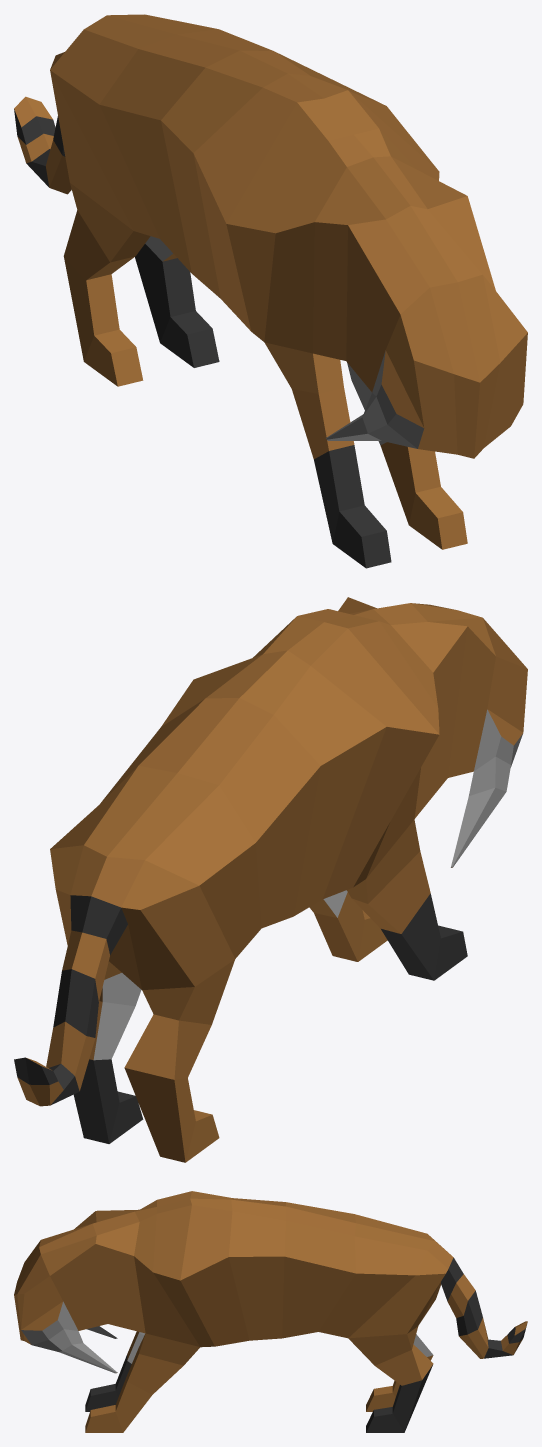
Rendered from Sabertoothcoloranim.dae.
3 views of the same model, one above another, from view 1: azimuth 30°, elevation 25°; view 2: azimuth 150°, elevation 25°; view 3: azimuth 270°, elevation 25° (orthographic). The views are drawn at different scales.
Visible parts, largest first — view 1: Plane; view 2: Plane; view 3: Plane.
Part boxes in pixels (left/top/right/bottom): Plane: left=14, top=14, right=527, bottom=568; Plane: left=14, top=597, right=527, bottom=1162; Plane: left=14, top=1191, right=527, bottom=1432.
Bounding box in the file's own units: 2.81 × 10.37 × 4.92.
